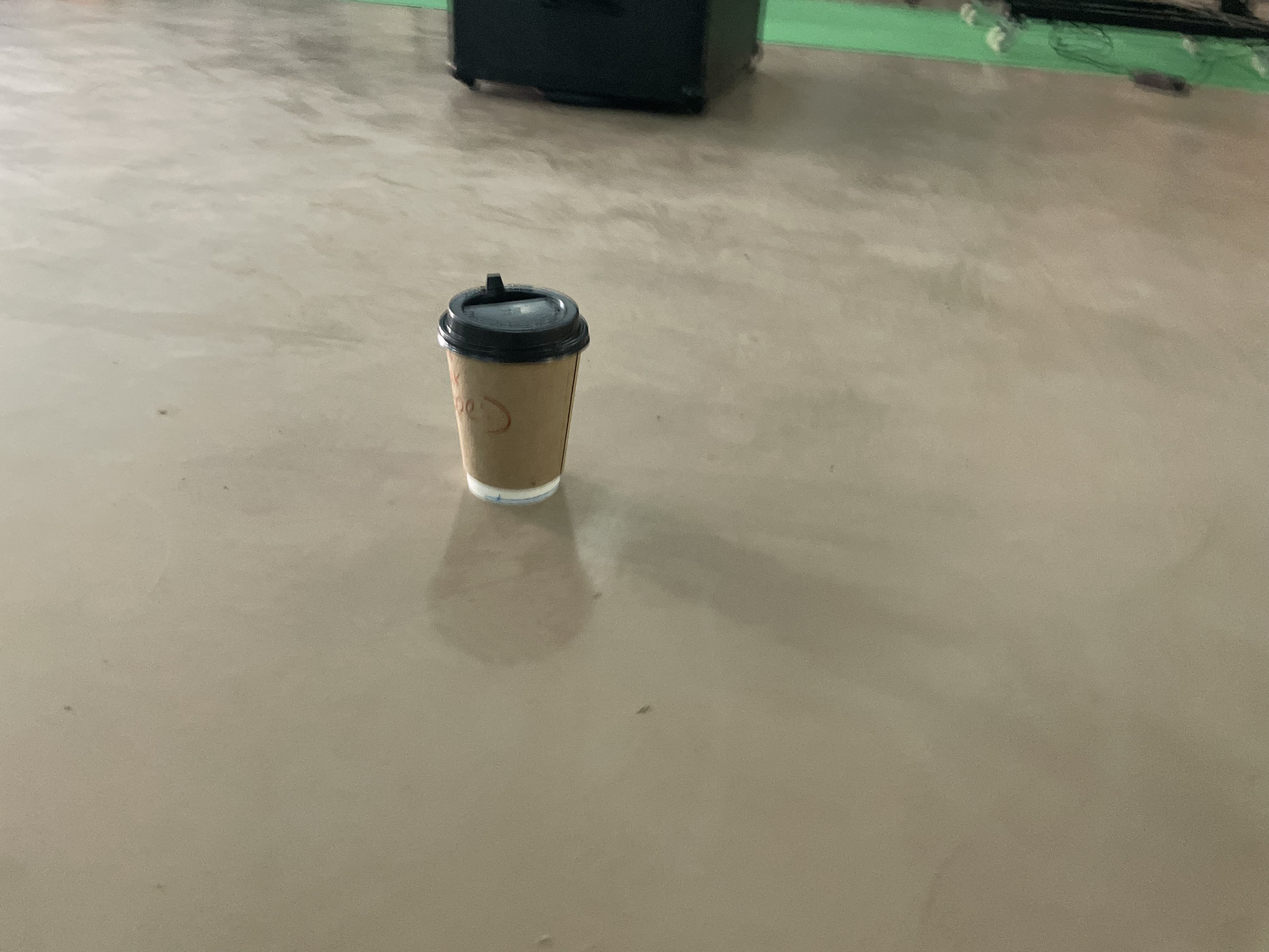cup: (437, 274, 590, 506)
